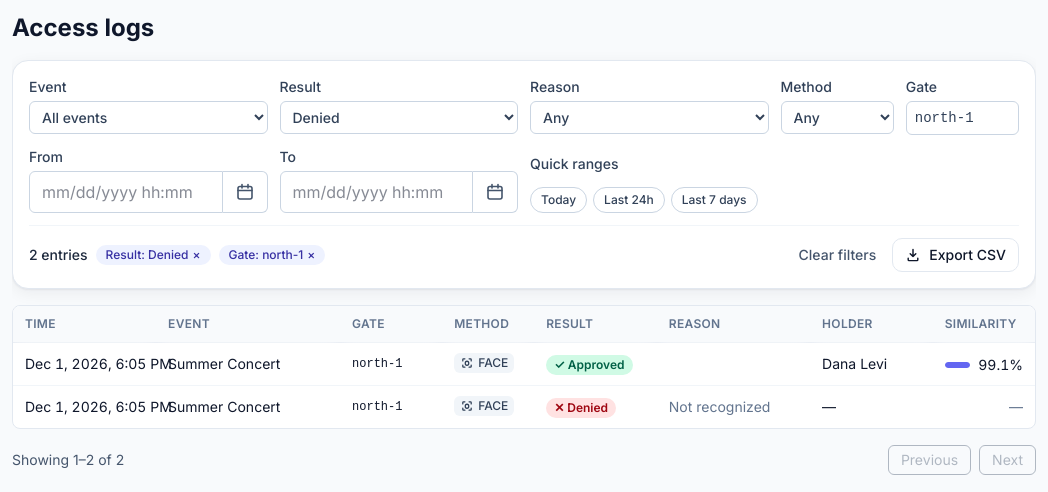
Scenario: LogsPage › active filters are removable chips with a count; Clear shows only when something is set
The width and height of the screenshot is (1048, 492).
expect the table is shown: met, box [13,306,1035,428]
expect the text "2 entries" is shown: met, box [29,245,88,265]
Click the button with aria-label "Remove filter: Gate: north-1". click: (272, 255)
box: [218,245,325,265]
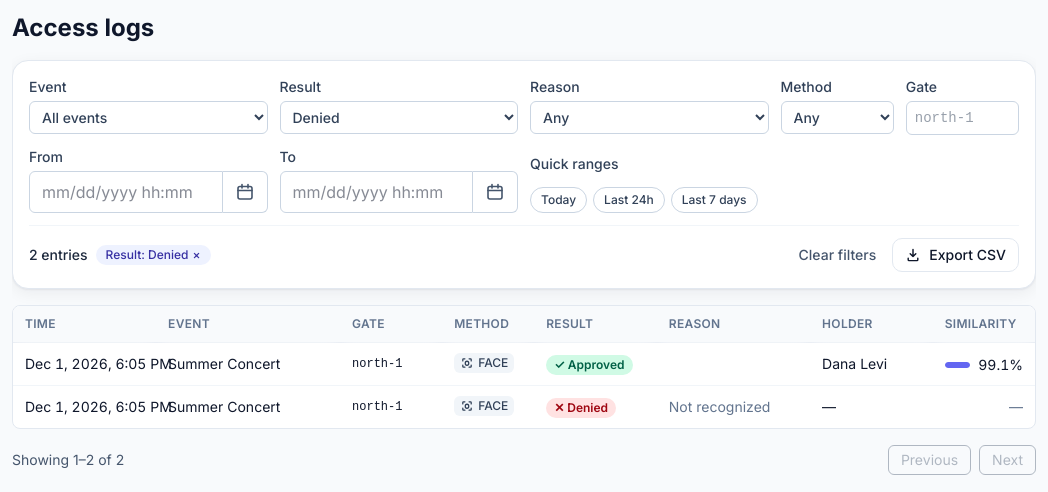
Click the button "Clear filters". click: (837, 255)
box: [791,241,884,269]
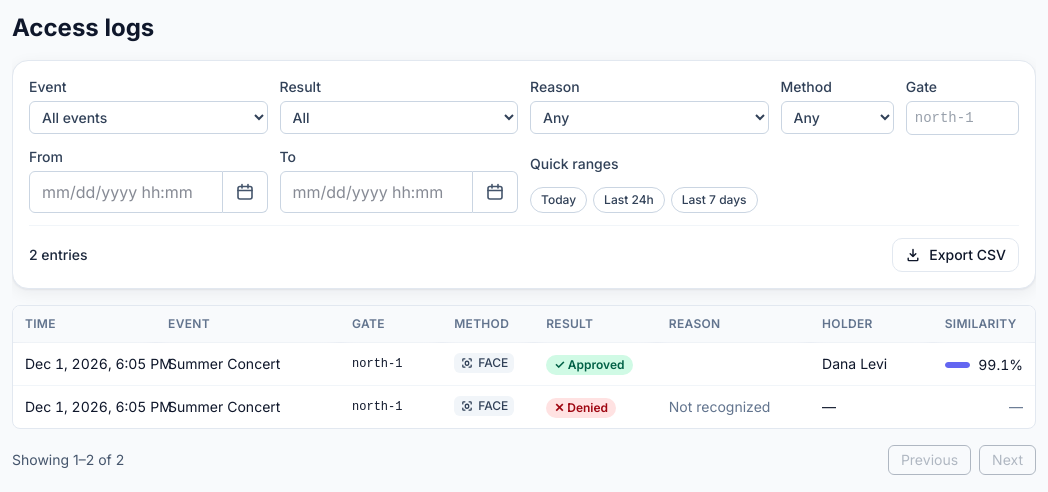
expect the button "Clear filters" is gone: met
